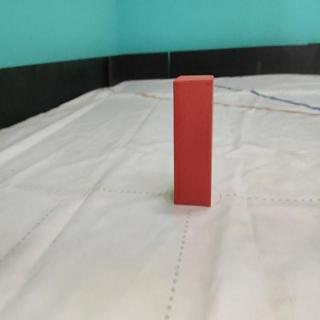redbox: (173, 74, 213, 208)
